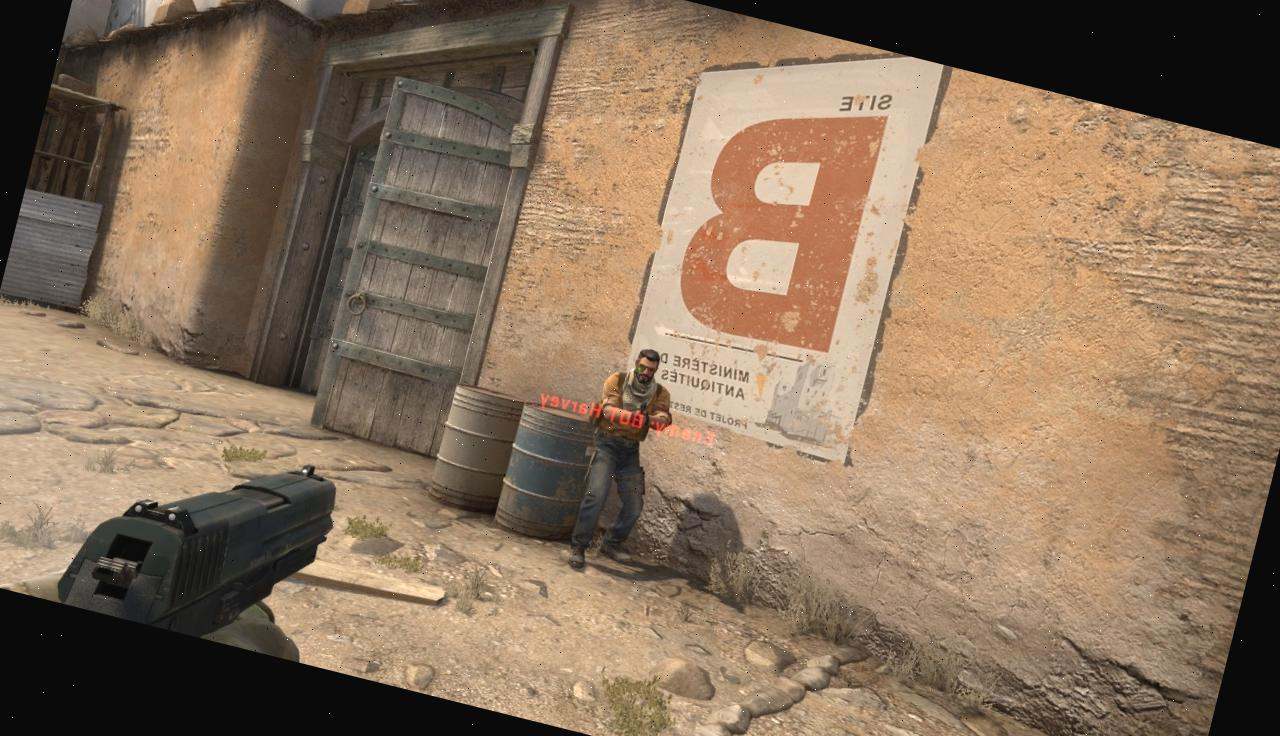pistol: (48, 413, 344, 662)
tt: (560, 341, 686, 584)
tthead: (631, 347, 662, 385)
